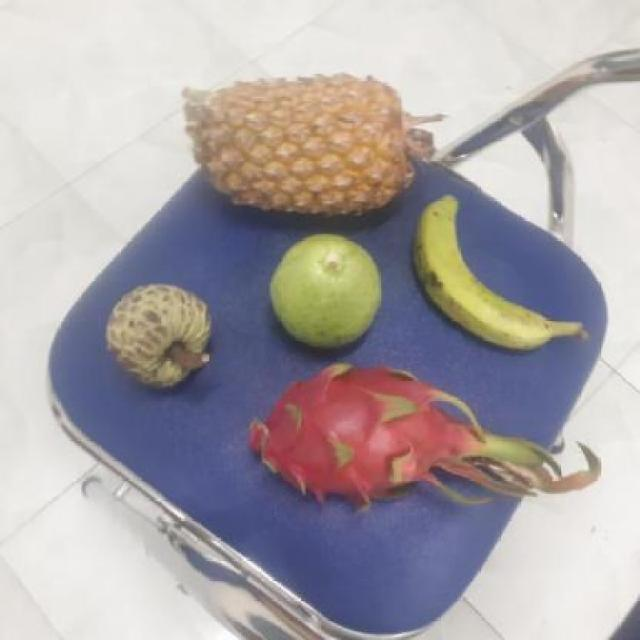banana: (404, 195, 558, 351)
dragon fruit: (238, 366, 474, 502)
guava: (266, 232, 383, 352)
pineapple: (189, 76, 413, 226)
sugar apple: (101, 284, 210, 390)
